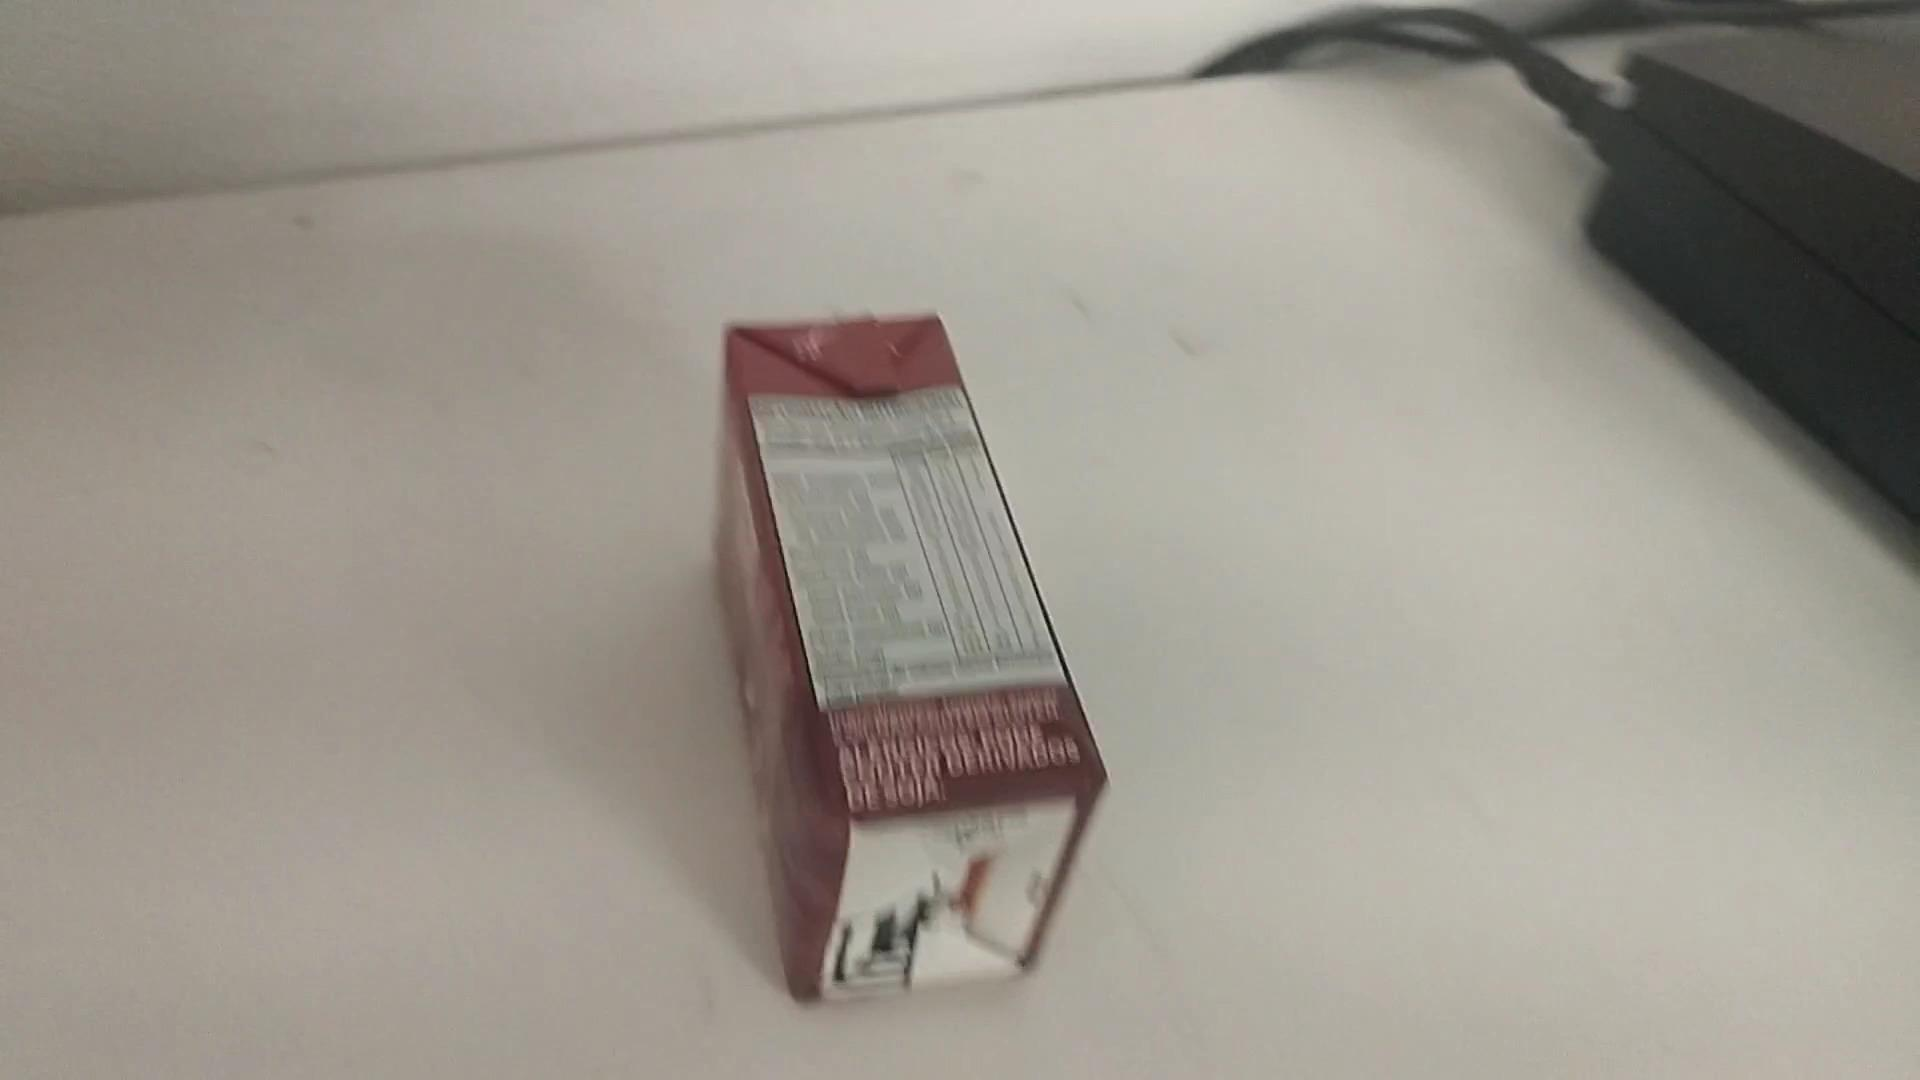tomate: (703, 301, 1117, 1007)
